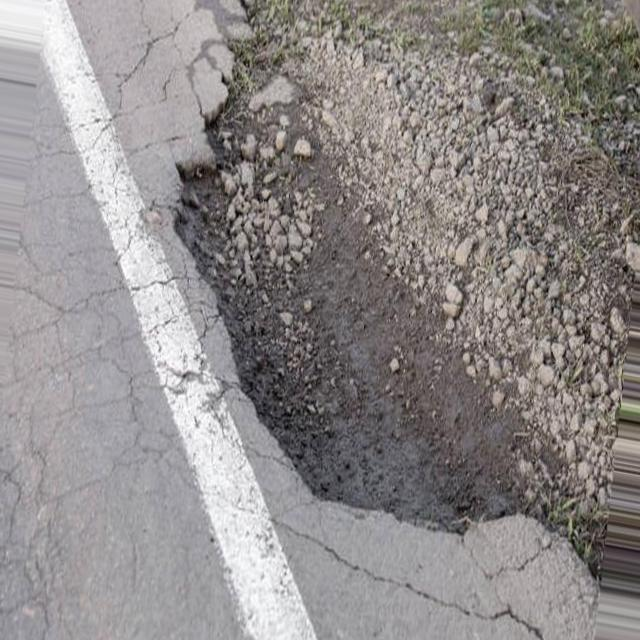Pinggir: (169, 19, 568, 552)
